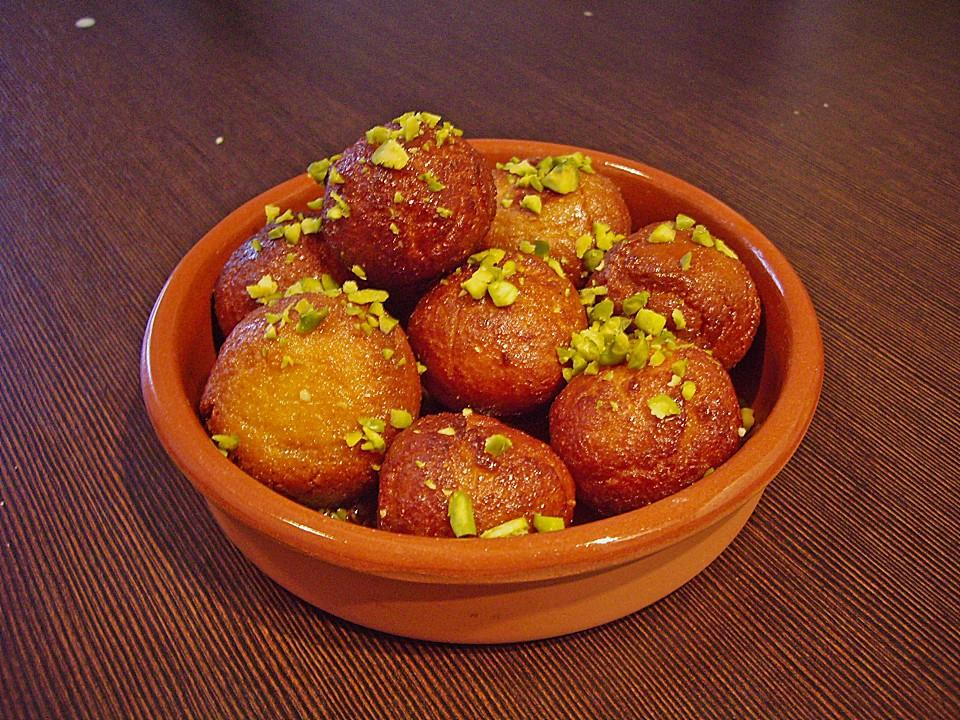GulabJamun: (201, 287, 421, 507), (548, 332, 746, 515), (320, 111, 498, 288), (406, 250, 589, 407), (583, 215, 763, 371), (375, 411, 579, 542), (484, 153, 630, 287), (213, 214, 353, 342)
